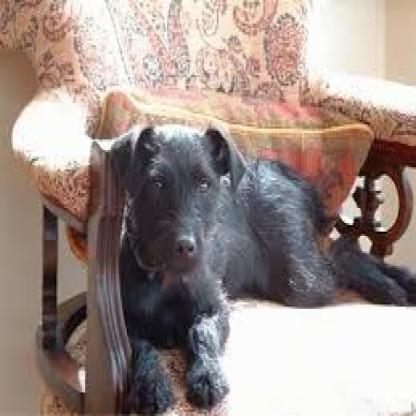Lakeland Terrier: (114, 98, 409, 390)
